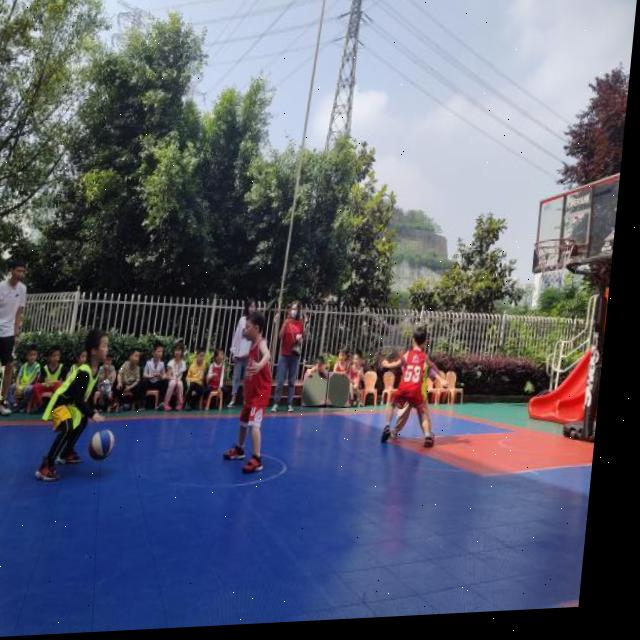basketball: (88, 428, 116, 461)
hoop: (529, 237, 577, 291)
